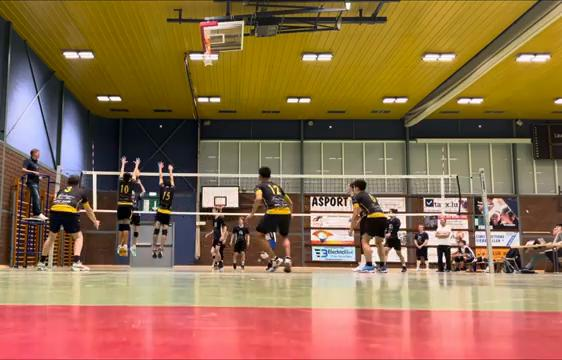Attack: (130, 171, 143, 258)
Block: (109, 152, 140, 262), (150, 158, 173, 263)
Player: (37, 175, 99, 270), (247, 167, 292, 272), (349, 179, 386, 271), (206, 207, 227, 271), (385, 209, 406, 271), (230, 217, 249, 269), (451, 239, 476, 270), (414, 224, 428, 270), (358, 211, 365, 244), (260, 251, 271, 270)
